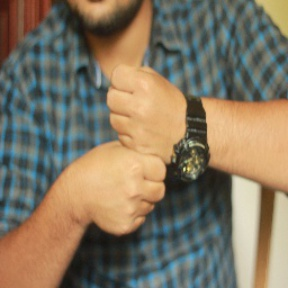G: (76, 60, 186, 241)
